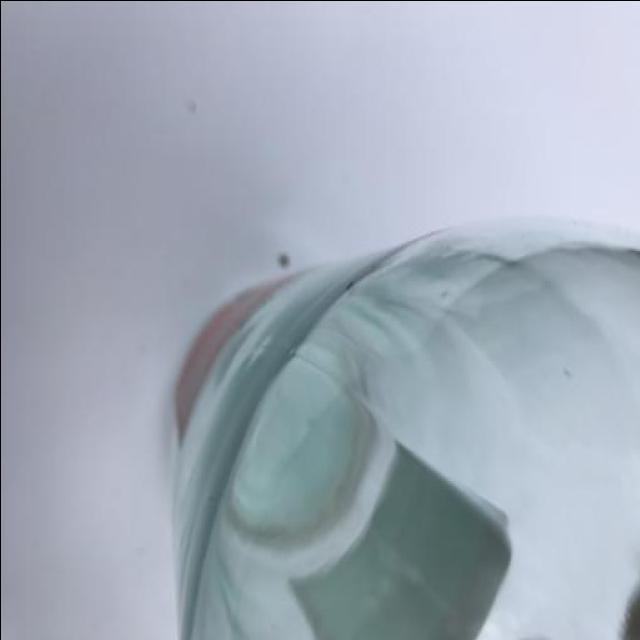glass: (175, 218, 640, 640)
